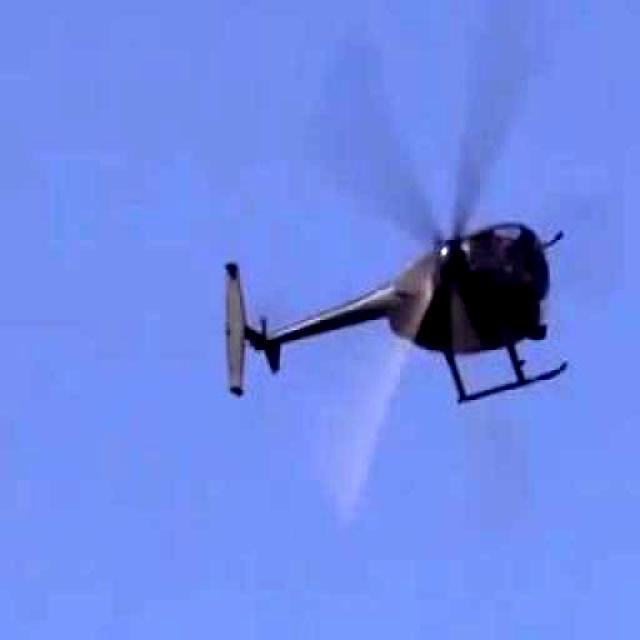drone: (180, 0, 640, 554)
